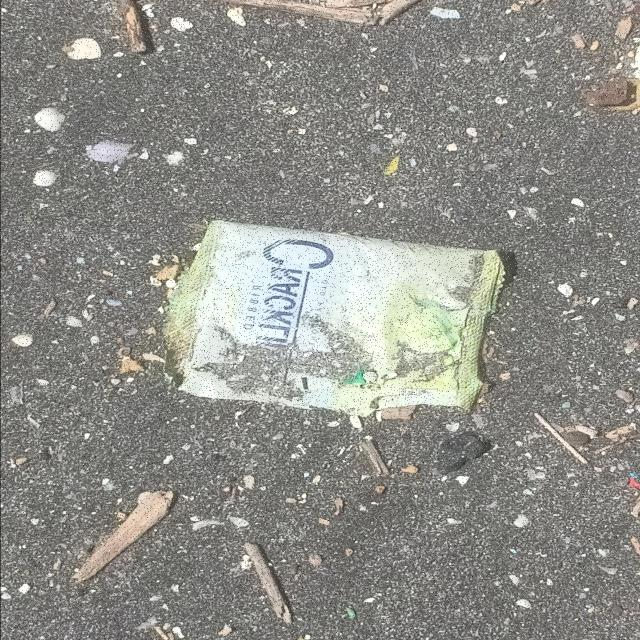plastic_waste: (164, 219, 506, 419)
